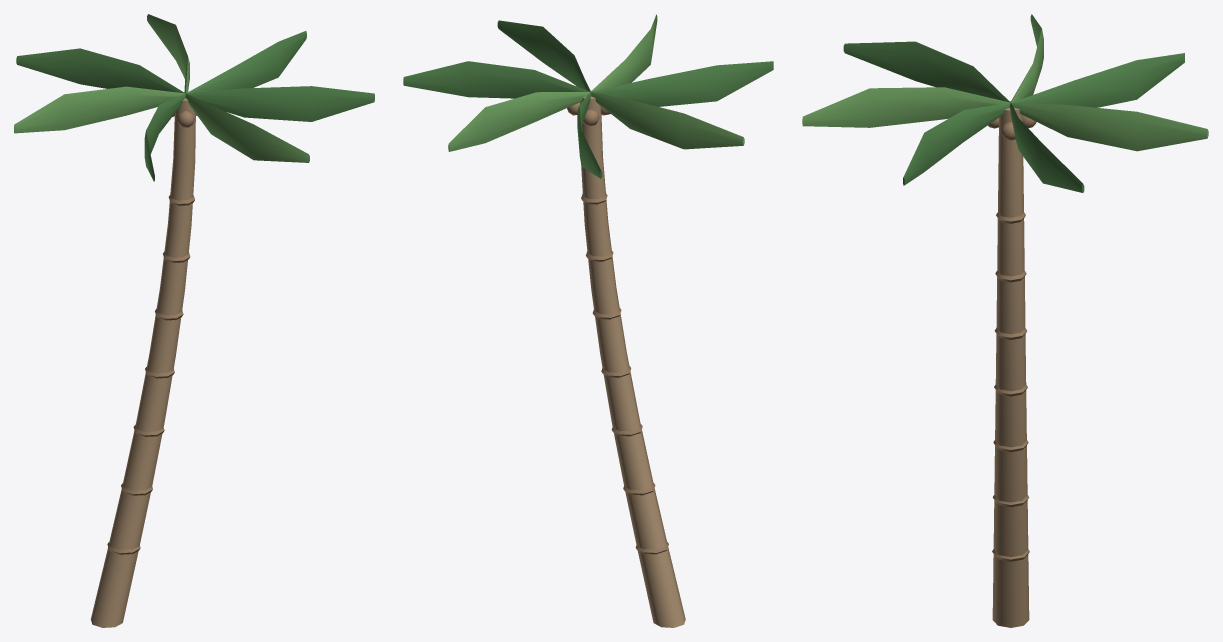
File: prop_tree_palm.glb
3 views of the same model, side by side, from view 1: azimuth 30°, elevation 25°; view 2: azimuth 150°, elevation 25°; view 3: azimuth 270°, elevation 25° (orthographic). The views are drawn at different scales.
Parts seen in each view (by area): view 1: prop_tree_palm; view 2: prop_tree_palm; view 3: prop_tree_palm.
Part boxes in pixels (x1,y1,x2,y2): prop_tree_palm: [14, 14, 374, 627]; prop_tree_palm: [403, 14, 773, 627]; prop_tree_palm: [802, 14, 1208, 627].
Size of what is drawn, in the model's own units: 3.4 by 5.39 by 3.44.
